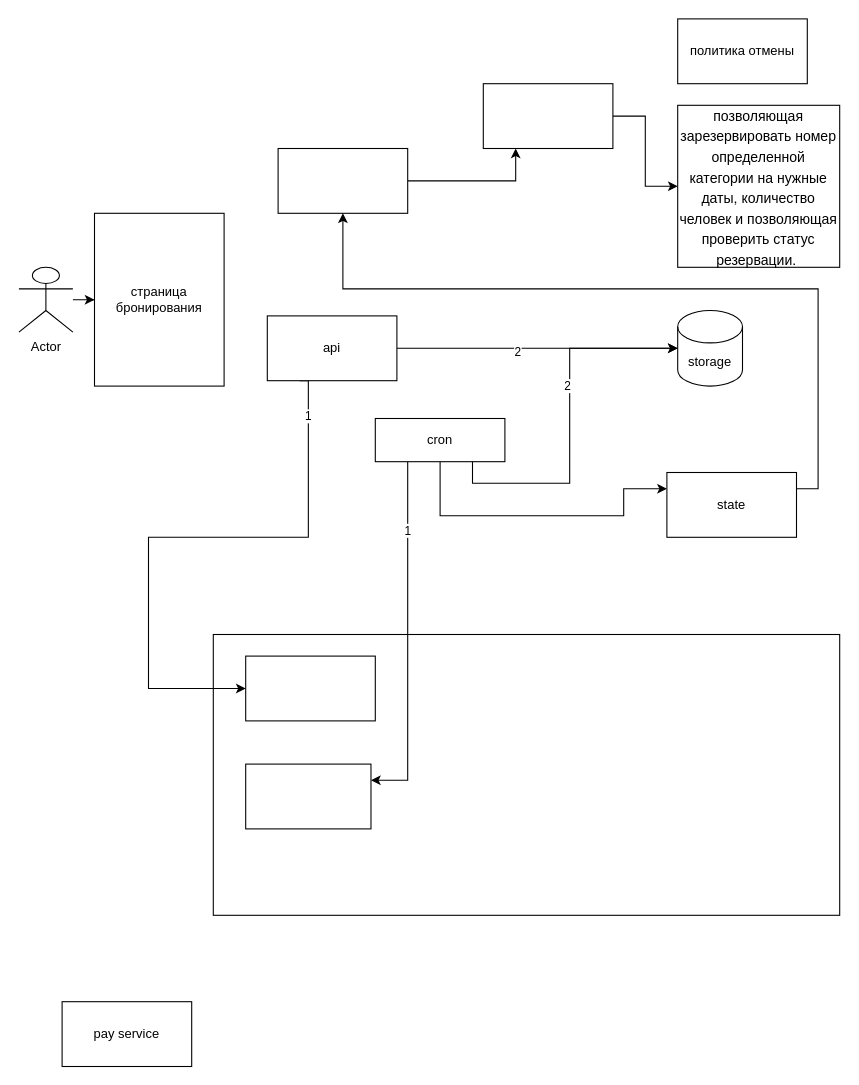
This 859x1085 diagram has some shape labels left out. The shapes that lost their labels are listed below. From the top down, each one's centre as x and y in pixels, then its label:
At point (547, 115): "система резервации".
At point (342, 180): "create booking".
At point (310, 688): "create order".
At point (308, 796): "get status by id".
